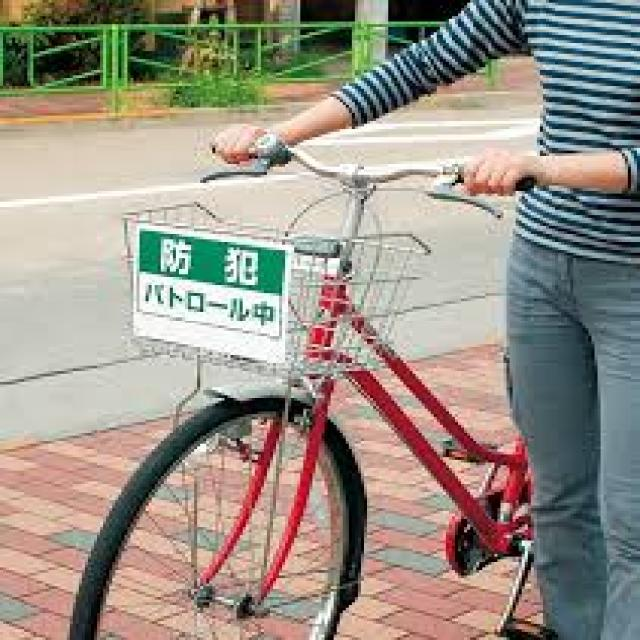basket: (126, 200, 429, 375)
